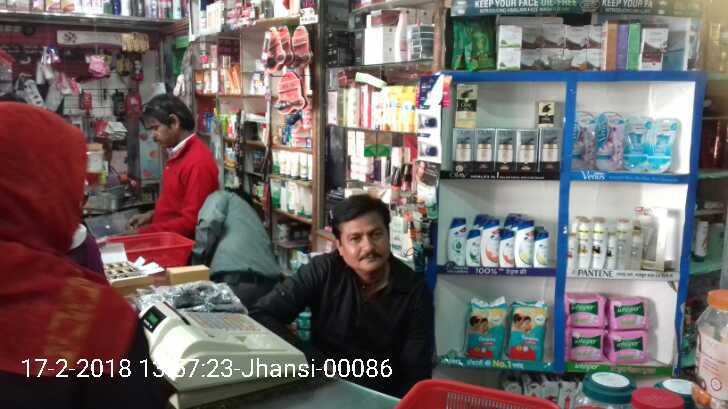venus: (593, 114, 625, 173), (648, 117, 680, 171), (569, 110, 593, 173), (625, 114, 648, 171)
